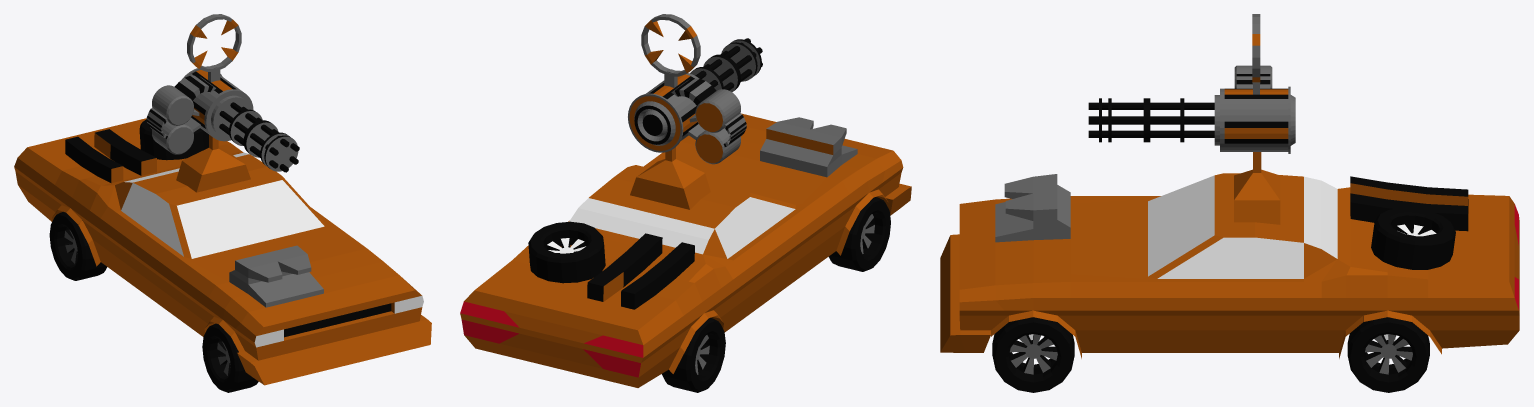
The model's file is Car_MachineGun.fbx.
3 renders of one model, left to right at view 1: azimuth 30°, elevation 25°; view 2: azimuth 150°, elevation 25°; view 3: azimuth 270°, elevation 25°, orthographic. The views are drawn at different scales.
Parts seen in each view (by area): view 1: Car Main, MachineGun, Wheel4, Wheel2, MachineGuns_B; view 2: Car Main, MachineGun, Wheel4, Wheel2, MachineGuns_B; view 3: Car Main, MachineGun, Wheel3, Wheel1, MachineGuns_B.
Boxes of the visible parts, x1=… form: Car Main: x1=14, y1=118, x2=431, y2=385; MachineGun: x1=146, y1=14, x2=298, y2=171; Wheel4: x1=49, y1=211, x2=106, y2=280; Wheel2: x1=202, y1=323, x2=258, y2=392; MachineGuns_B: x1=219, y1=102, x2=299, y2=172; Car Main: x1=460, y1=113, x2=911, y2=387; MachineGun: x1=628, y1=14, x2=761, y2=164; Wheel4: x1=662, y1=317, x2=725, y2=392; Wheel2: x1=828, y1=197, x2=890, y2=271; MachineGuns_B: x1=695, y1=38, x2=762, y2=90; Car Main: x1=940, y1=152, x2=1519, y2=358; MachineGun: x1=1099, y1=14, x2=1295, y2=153; Wheel3: x1=1347, y1=316, x2=1429, y2=392; Wheel1: x1=992, y1=317, x2=1074, y2=392; MachineGuns_B: x1=1088, y1=102, x2=1214, y2=137.
Size of the model in its own units: 137 by 208 by 332.
